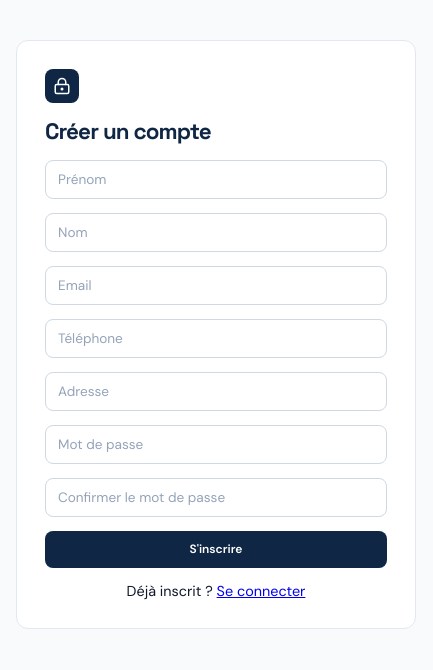
Test: shows error and does not call register when passwords differ
Type "Ali" into the field labelled "Prénom" at (216,179), box [45,160,387,198]
Type "Ben" into the field labelled "Nom" at (216,232), box [45,212,387,252]
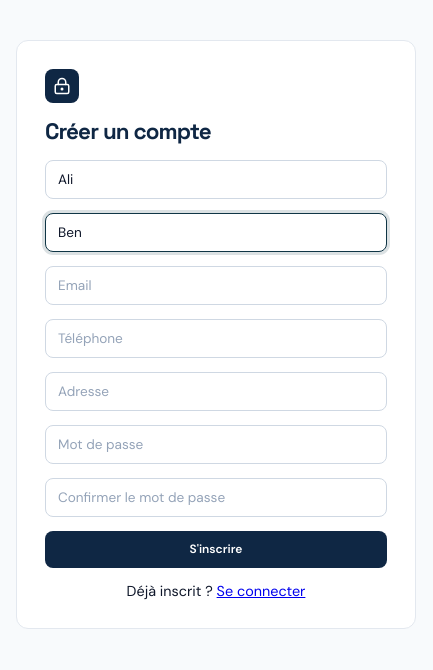
Type "ali@test.com" into the field labelled "Email" at (216,285), box [45,266,387,304]
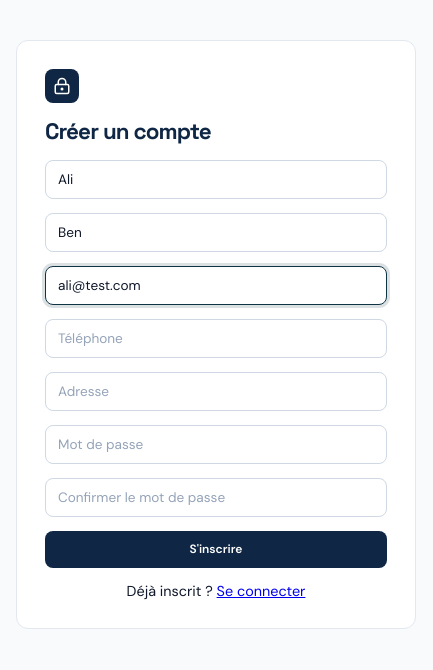
Type "Tunis" into the field labelled "Adresse" at (216,391), box [45,372,387,410]
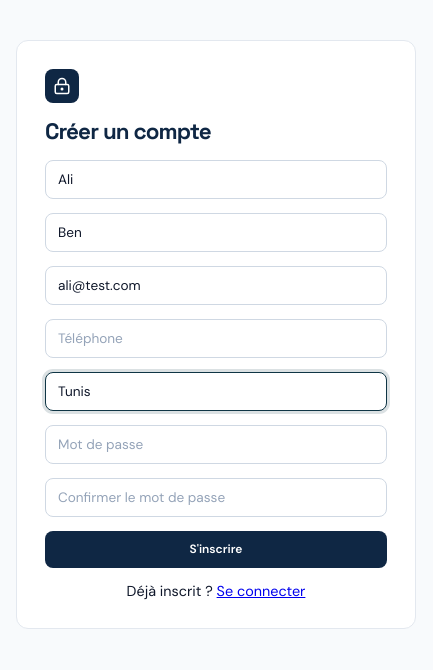
Type "Secret123!" into the password field labelled "Mot de passe" at (216,444), box [45,424,387,464]
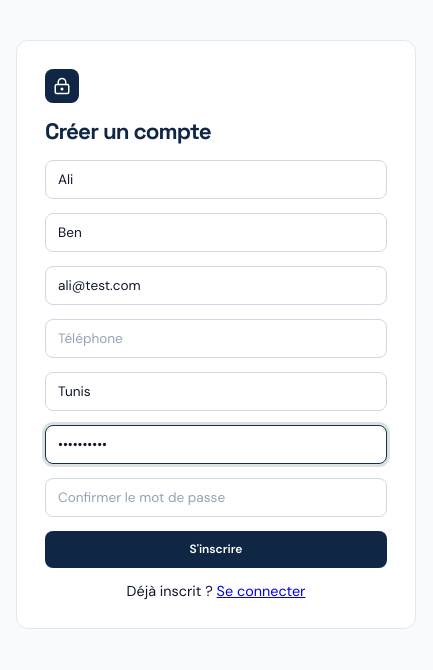
Type "Different!" into the password field labelled "Confirmer le mot de passe" at (216,497), box [45,478,387,516]
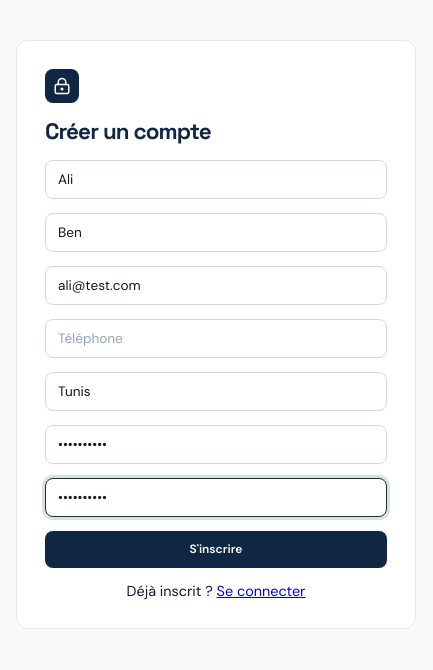
Click the button "S'inscrire" at (216,549), box [45,530,387,568]
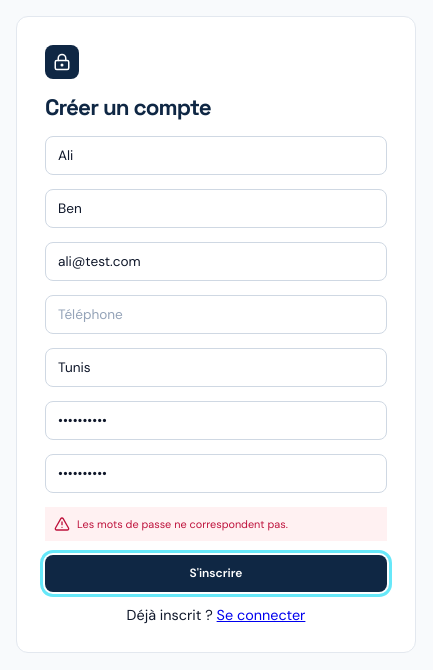
Expected: the text "Les mots de passe ne correspondent pas." is shown, [45,506,387,540]
